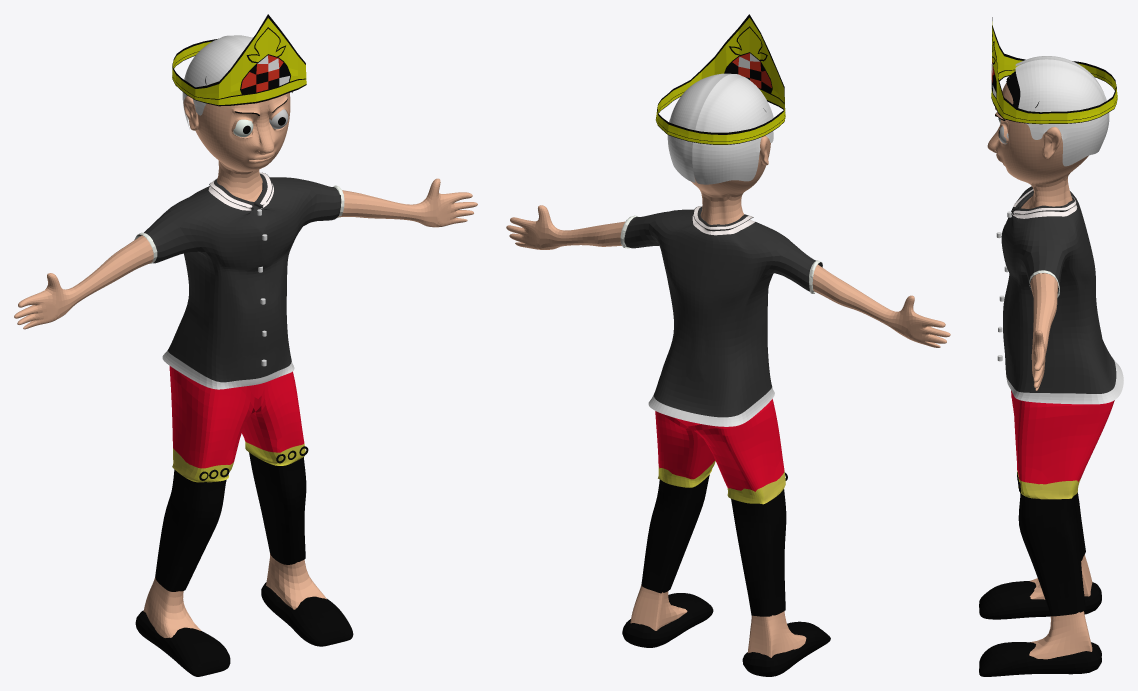
Rendered from final 2blender 3d.fbx.
The picture shows the model from 3 angles, left to right: view 1: azimuth 30°, elevation 25°; view 2: azimuth 150°, elevation 25°; view 3: azimuth 270°, elevation 25°; orthographic projection. The views are drawn at different scales.
Parts seen in each view (by area): view 1: Cube.003, Cube, Cube.005, CPJ, Sphere.002, Cube.004, Cube.001; view 2: Cube.003, Cube, CPJ, Cube.005, Cube.001, Sphere.002, Cube.004; view 3: Cube.003, Cube, Cube.005, CPJ, Cube.001, Cube.004, Sphere.002, Cube.002.
Part boxes in pixels (box(x1,y1,x2,y2)): Cube.003: box(134, 172, 344, 389); Cube: box(14, 93, 477, 637); Cube.005: box(169, 366, 305, 482); CPJ: box(155, 452, 306, 591); Sphere.002: box(172, 14, 306, 106); Cube.004: box(135, 582, 353, 676); Cube.001: box(182, 35, 292, 128); Cube.003: box(620, 205, 822, 426); Cube: box(506, 120, 950, 657); CPJ: box(641, 474, 786, 616); Cube.005: box(655, 399, 785, 504); Cube.001: box(667, 73, 773, 184); Sphere.002: box(655, 14, 785, 144); Cube.004: box(622, 593, 830, 676); Cube.003: box(1001, 186, 1123, 404); Cube: box(987, 83, 1092, 659); Cube.005: box(1011, 390, 1114, 499); CPJ: box(1018, 492, 1085, 616); Cube.001: box(1015, 56, 1109, 166); Cube.004: box(979, 581, 1101, 676); Sphere.002: box(991, 17, 1117, 124); Cube.002: box(1006, 71, 1039, 107).
Size of the model in its own units: 1592 by 2107 by 440.
